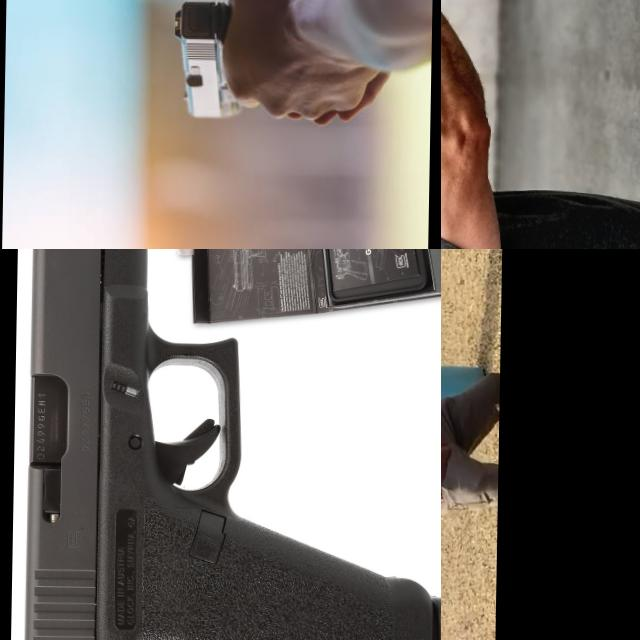handgun: (8, 249, 441, 640), (169, 0, 247, 122), (441, 0, 470, 69), (441, 249, 460, 291)
